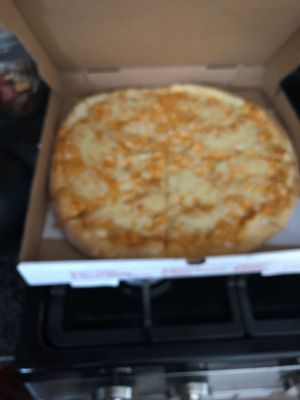sandwich: (48, 83, 300, 260)
